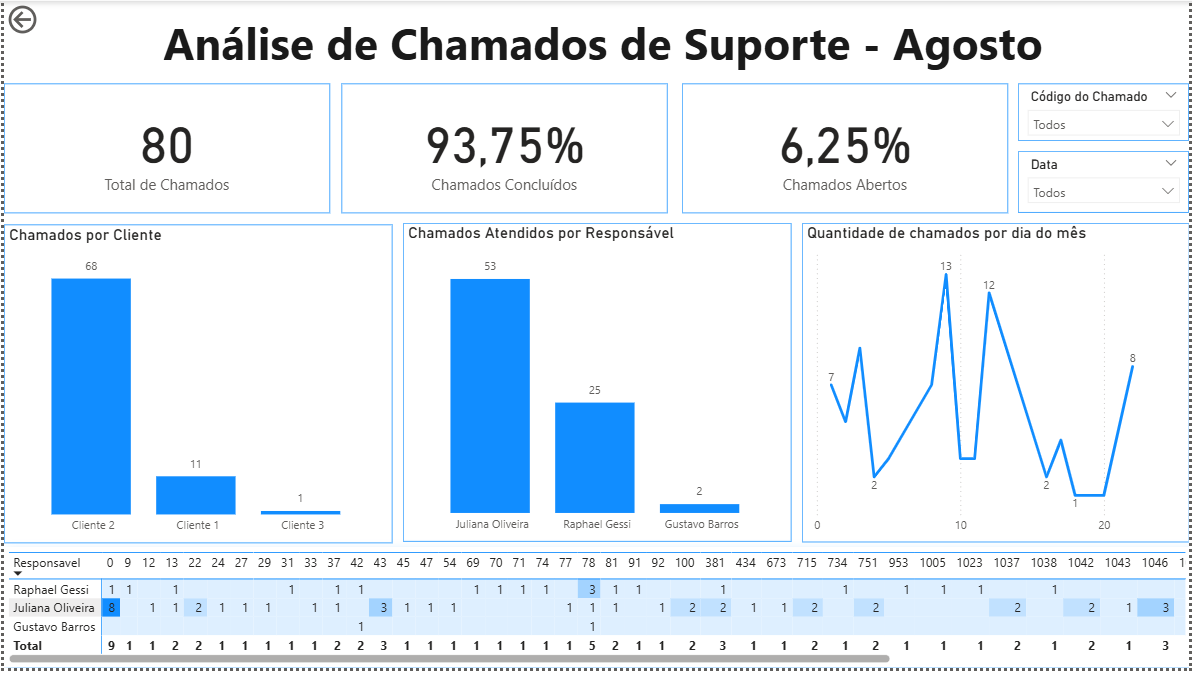

The dashboard page shown, as its layout file describes it:
{"tool":"powerbi","page":{"name":"Página 1","canvas":[1280,720],"ordinal":0},"visuals":[{"type":"columnChart","title":"Chamados por Cliente","fields":{"Category":["power_bi.Cliente"],"Y":["Count(power_bi.IDChamado)"]},"box":[0,240.6,419,344],"z":1000},{"type":"columnChart","title":"Chamados Atendidos por Responsável","fields":{"Category":["power_bi.Responsavel"],"Y":["Count(power_bi.IDChamado)"]},"box":[430,240,419,344],"z":2000},{"type":"card","fields":{"Values":["Count(power_bi.IDChamado)"]},"box":[0,88.3,351.7,140],"z":3000},{"type":"actionButton","box":[0,0,100,40],"z":4000},{"type":"card","fields":{"Values":["power_bi.% Chamados Concluídos"]},"box":[365,88.3,351.7,140],"z":5000},{"type":"card","fields":{"Values":["power_bi.% Chamados Abertos"]},"box":[731.7,88.3,351.7,140],"z":6000},{"type":"slicer","fields":{"Values":["power_bi.Código"]},"box":[1095,88.3,185,62],"z":7000},{"type":"slicer","fields":{"Values":["power_bi.Data"]},"box":[1095,161.7,185,66.7],"z":8000},{"type":"lineChart","title":"Quantidade de chamados por dia do mês","fields":{"Category":["power_bi.Data.Variation.Hierarquia de datas.Dia"],"Y":["CountNonNull(power_bi.IDChamado)"]},"box":[860.6,239.6,419.4,344.9],"z":9000},{"type":"pivotTable","fields":{"Rows":["power_bi.Responsavel"],"Values":["Count(power_bi.IDChamado)"],"Columns":["power_bi.Código Numérico"]},"box":[0,590,1280,130],"z":10000},{"type":"textbox","box":[166.7,6.7,968.3,75],"z":11000}]}

Visuals, with their boxes in screenshot pixels (x1, y1, x2, y2), scaled from the page's 1280x720 canvas onto the 1192x673 screenshot:
"Chamados por Cliente" columnChart: x1=0, y1=225, x2=390, y2=546
"Chamados Atendidos por Responsável" columnChart: x1=400, y1=224, x2=791, y2=546
card - Count(power_bi.IDChamado): x1=0, y1=83, x2=328, y2=213
actionButton: x1=0, y1=0, x2=93, y2=37
card - power_bi.% Chamados Concluídos: x1=340, y1=83, x2=667, y2=213
card - power_bi.% Chamados Abertos: x1=681, y1=83, x2=1009, y2=213
slicer - power_bi.Código: x1=1020, y1=83, x2=1191, y2=140
slicer - power_bi.Data: x1=1020, y1=151, x2=1191, y2=213
"Quantidade de chamados por dia do mês" lineChart: x1=801, y1=224, x2=1191, y2=546
pivotTable - power_bi.Responsavel x Count(power_bi.IDChamado): x1=0, y1=551, x2=1191, y2=672
textbox: x1=155, y1=6, x2=1057, y2=76
